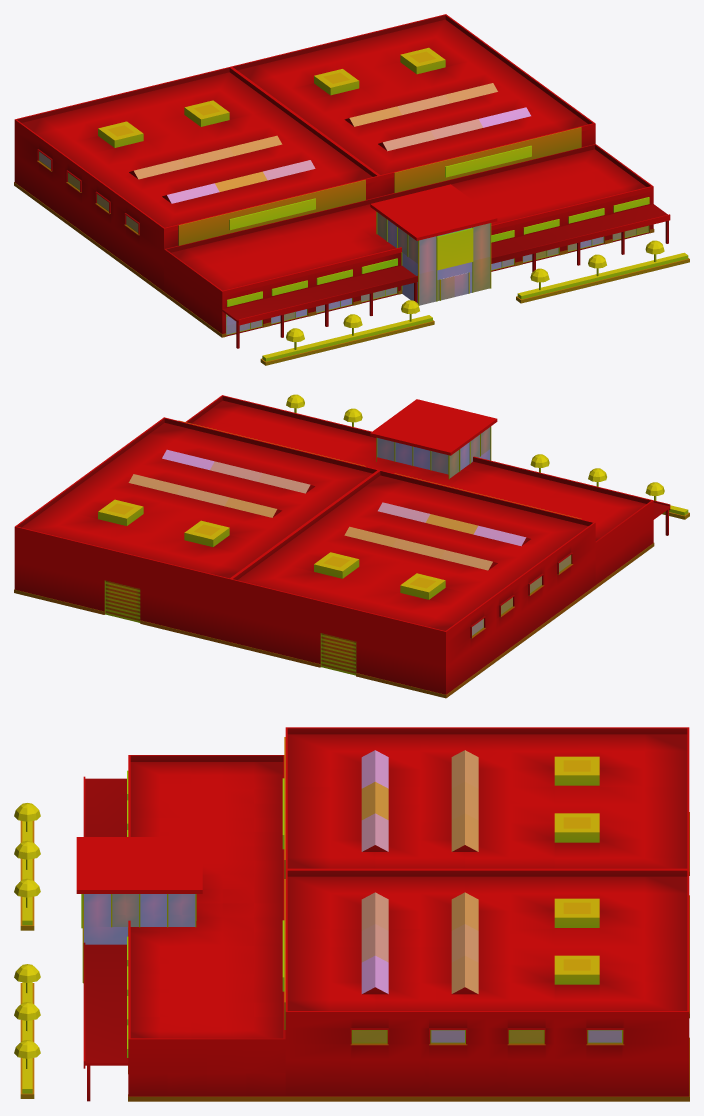
Rendered from mall.glb.
3 renders of one model, top to bottom at view 1: azimuth 30°, elevation 25°; view 2: azimuth 150°, elevation 25°; view 3: azimuth 270°, elevation 25°, orthographic. The views are drawn at different scales.
Visible parts, largest first — view 1: mall__box__LOD0; view 2: mall__box__LOD0; view 3: mall__box__LOD0.
Boxes of the visible parts, bbox=[...] form: mall__box__LOD0: bbox=[14, 14, 689, 365]; mall__box__LOD0: bbox=[14, 394, 689, 698]; mall__box__LOD0: bbox=[14, 727, 689, 1101].
Size of what is drawn, in the model's own units: 60.48 by 9.4 by 60.25.
